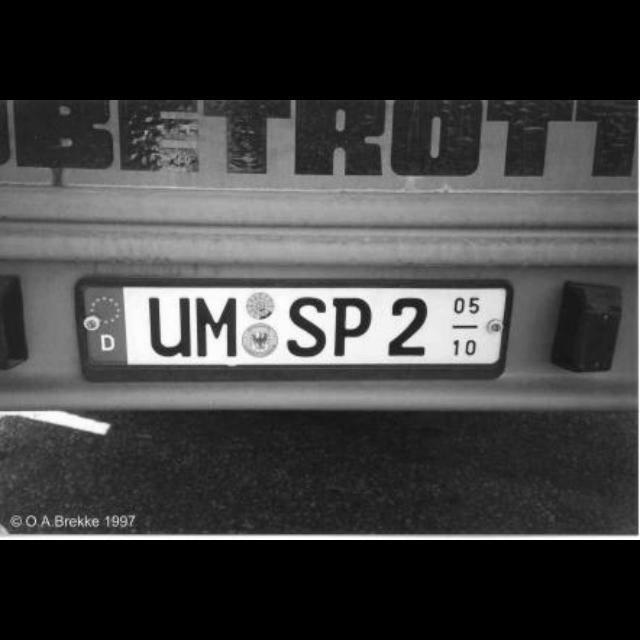licenseplate: (81, 283, 503, 365)
